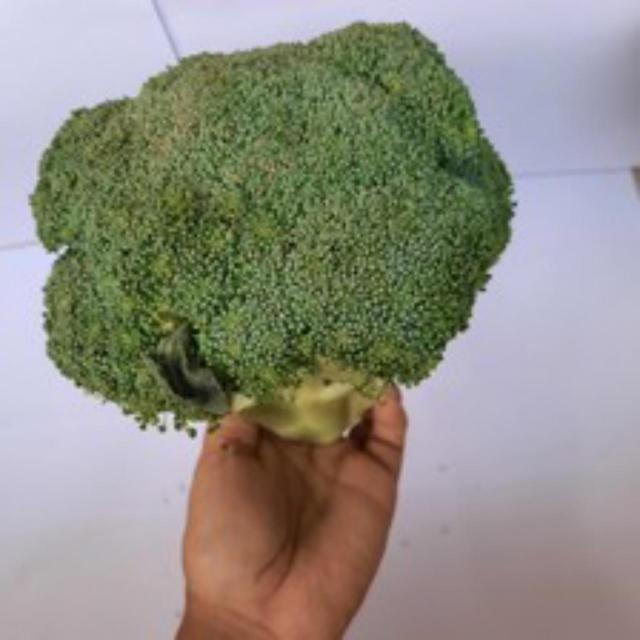broccoli: (13, 12, 521, 442)
